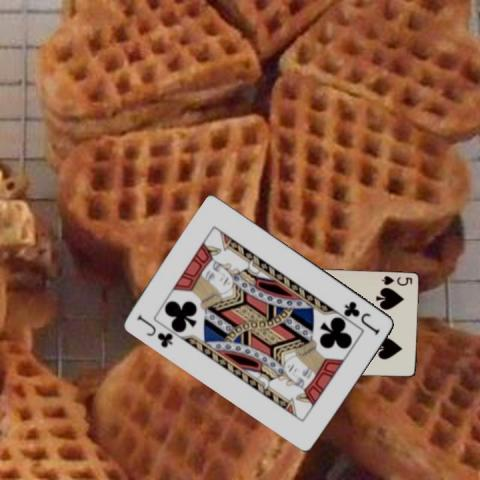5s: (379, 273, 413, 287)
Jc: (134, 311, 175, 349), (341, 298, 382, 335)
